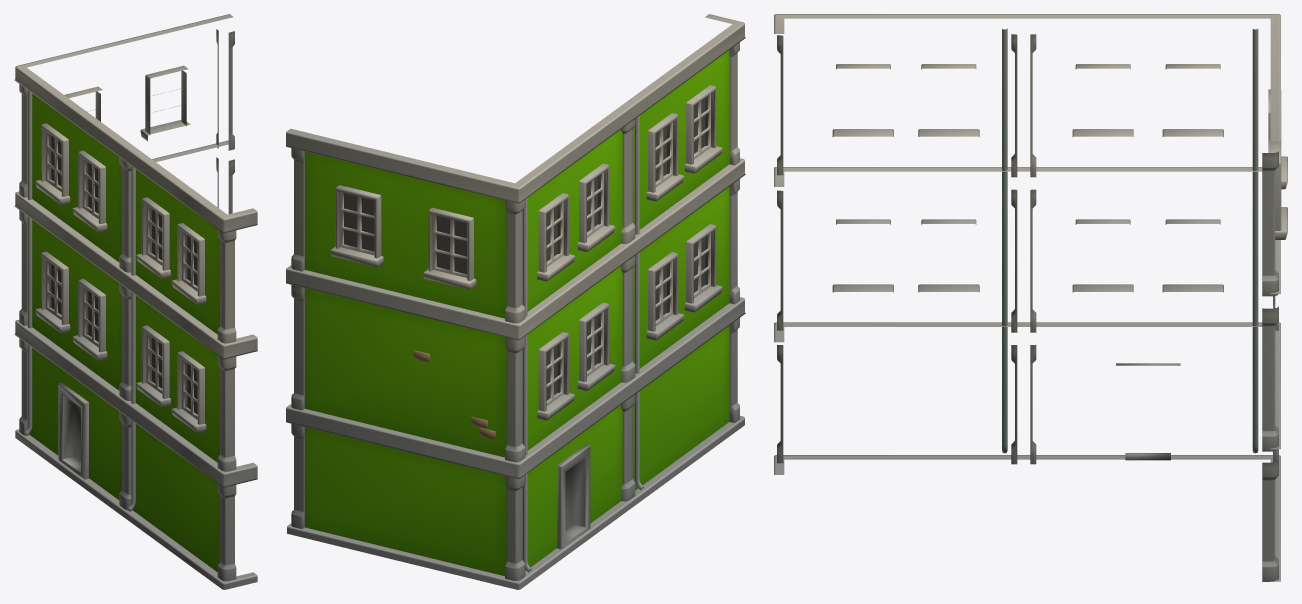
The model's file is Apartments02.glb.
The picture shows the model from 3 angles, left to right: view 1: azimuth 30°, elevation 25°; view 2: azimuth 150°, elevation 25°; view 3: azimuth 270°, elevation 25°; orthographic projection. The views are drawn at different scales.
Parts seen in each view (by area): view 1: Apartments02; view 2: Apartments02; view 3: Apartments02.
Boxes of the visible parts, x1,y1,x2,y2 form: Apartments02: (14, 14, 257, 589); Apartments02: (286, 14, 745, 589); Apartments02: (774, 14, 1287, 581).
Bounding box in the file's own units: 10.6 × 17.16 × 17.79.
2 materials, 1 textured.
